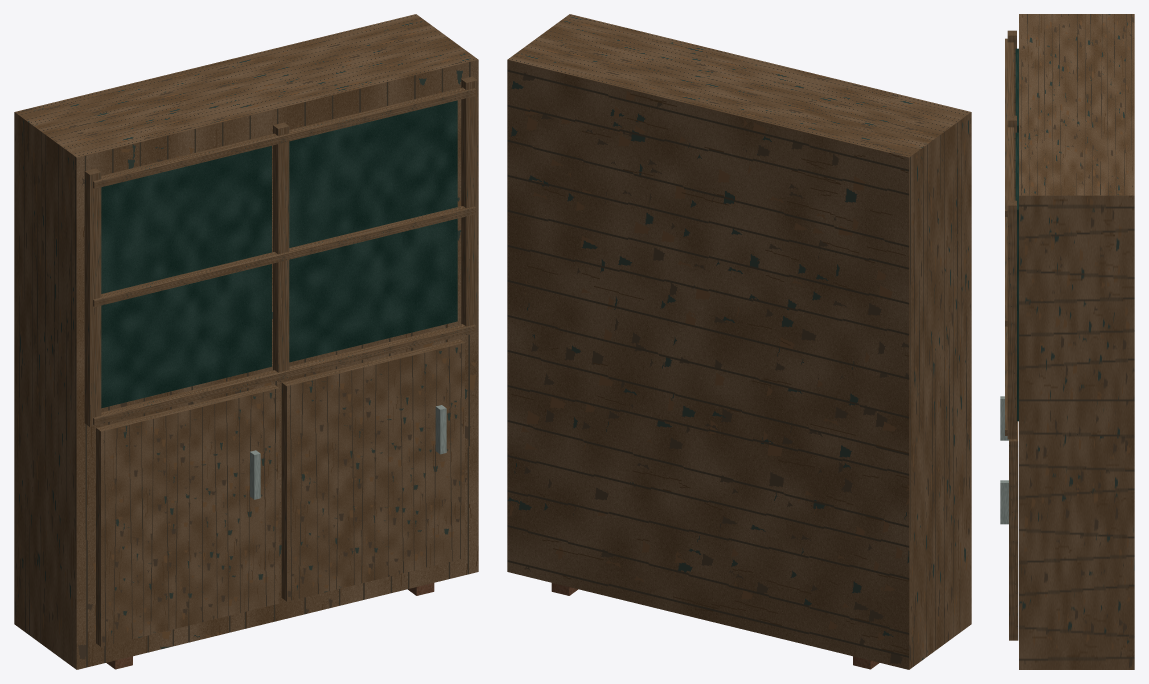
File: CIS_Sideboard.glb
3 views of the same model, side by side, from view 1: azimuth 30°, elevation 25°; view 2: azimuth 150°, elevation 25°; view 3: azimuth 270°, elevation 25° (orthographic). The views are drawn at different scales.
Visible parts, largest first — view 1: CIS_Sideboard; view 2: CIS_Sideboard; view 3: CIS_Sideboard.
Part boxes in pixels (x1,y1,x2,y2): CIS_Sideboard: [14, 14, 478, 669]; CIS_Sideboard: [507, 14, 971, 669]; CIS_Sideboard: [1000, 14, 1134, 669].
Bounding box in the file's own units: 1.6 × 2 × 0.4995.
4 materials, 4 textured.
